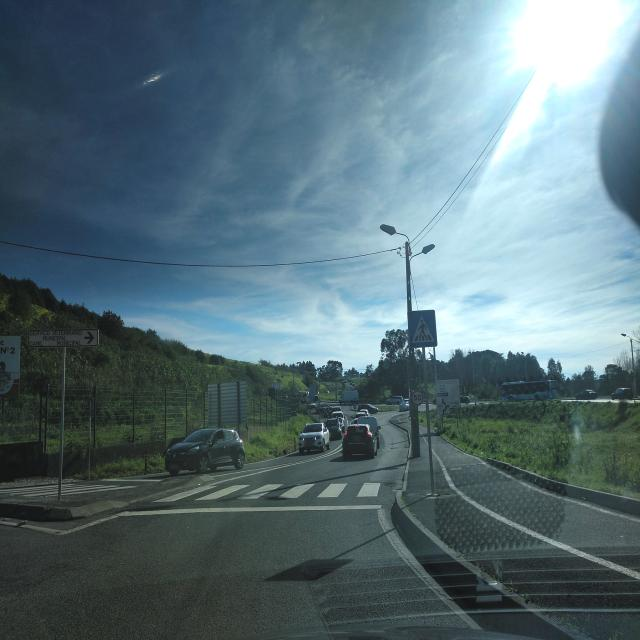car: (164, 426, 246, 476), (341, 420, 380, 460), (298, 421, 330, 454), (610, 385, 636, 400), (325, 418, 342, 439), (330, 410, 347, 430), (417, 401, 437, 416), (398, 398, 411, 412), (387, 394, 402, 404)
